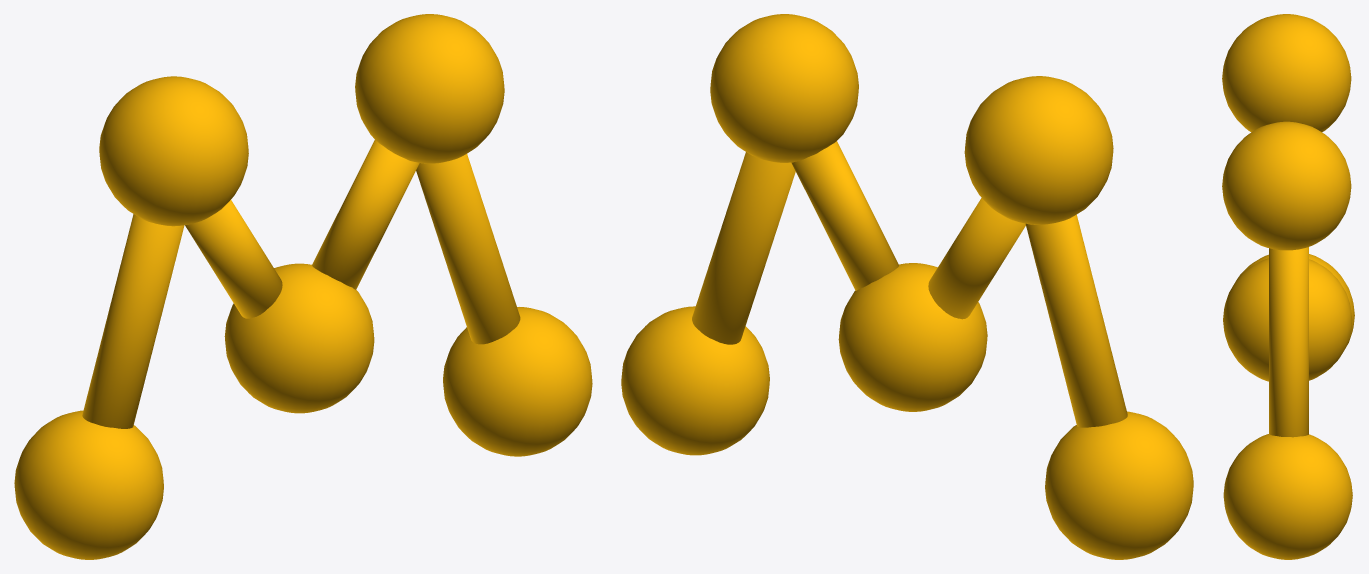
File: Manchete.obj
3 renders of one model, left to right at view 1: azimuth 30°, elevation 25°; view 2: azimuth 150°, elevation 25°; view 3: azimuth 270°, elevation 25°, orthographic. The views are drawn at different scales.
Visible parts, largest first — view 1: Sphere.001; view 2: Sphere.001; view 3: Sphere.001.
Part boxes in pixels (x1,y1,x2,y2): Sphere.001: (14,14,592,559); Sphere.001: (621,14,1193,559); Sphere.001: (1222,14,1354,559).
Bounding box in the file's own units: 8.58 × 6.64 × 2.05.
